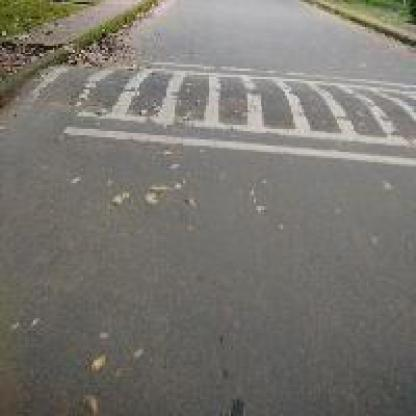Speed Bump: (0, 54, 414, 169)
